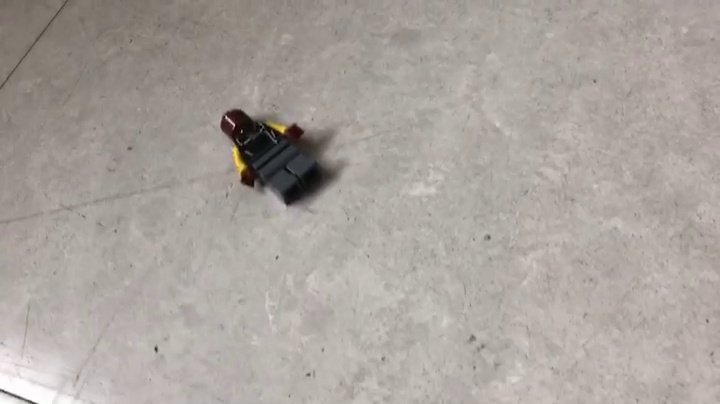people: (219, 108, 328, 208)
